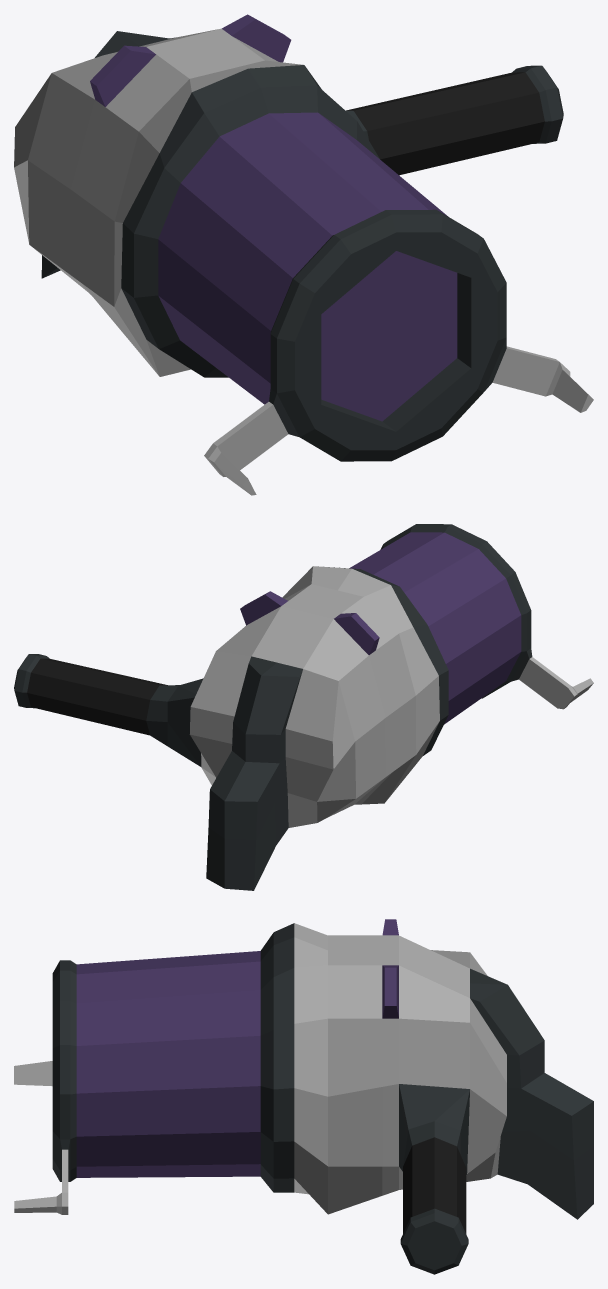
File: ExportedBlenderFBXFile.fbx
3 views of the same model, one above another, from view 1: azimuth 30°, elevation 25°; view 2: azimuth 150°, elevation 25°; view 3: azimuth 270°, elevation 25° (orthographic). The views are drawn at different scales.
Visible parts, largest first — view 1: GravityGun; view 2: GravityGun; view 3: GravityGun.
Boxes of the visible parts, x1,y1,x2,y2 form: GravityGun: (14, 14, 593, 495); GravityGun: (14, 524, 593, 890); GravityGun: (14, 919, 593, 1274).
Size of the model in its own units: 2.27 by 1.26 by 2.47.
